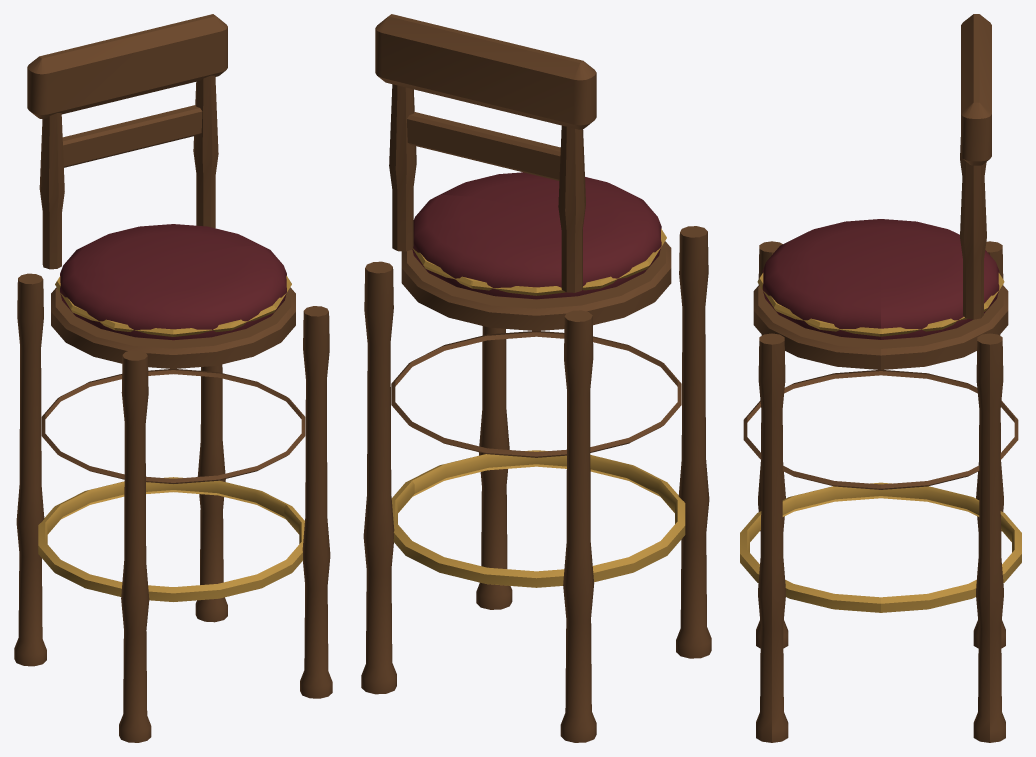
The model's file is BarStoolBack.obj.
The picture shows the model from 3 angles, left to right: view 1: azimuth 30°, elevation 25°; view 2: azimuth 150°, elevation 25°; view 3: azimuth 270°, elevation 25°; orthographic projection. The views are drawn at different scales.
Visible parts, largest first — view 1: bar-stool-with-back_0, bar-stool-with-back_2, bar-stool-with-back_1; view 2: bar-stool-with-back_0, bar-stool-with-back_2, bar-stool-with-back_1; view 3: bar-stool-with-back_0, bar-stool-with-back_2, bar-stool-with-back_1.
Part boxes in pixels (box(x1,y1,x2,y2)): bar-stool-with-back_0: box(14, 14, 332, 742); bar-stool-with-back_2: box(60, 224, 286, 340); bar-stool-with-back_1: box(38, 275, 304, 601); bar-stool-with-back_0: box(361, 14, 711, 742); bar-stool-with-back_2: box(412, 172, 661, 299); bar-stool-with-back_1: box(391, 228, 685, 587); bar-stool-with-back_0: box(743, 14, 1018, 742); bar-stool-with-back_2: box(762, 219, 999, 339); bar-stool-with-back_1: box(740, 273, 1021, 612).
Bounding box in the file's own units: 0.464 × 1.13 × 0.457.
